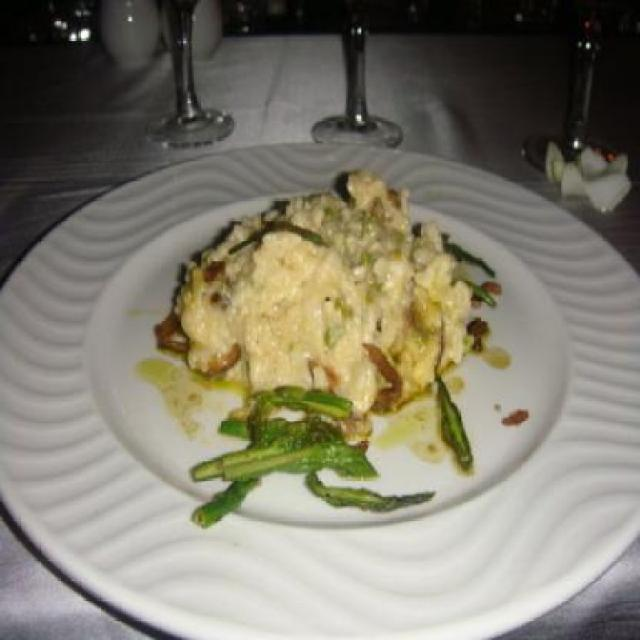Risotto: (176, 190, 510, 438)
